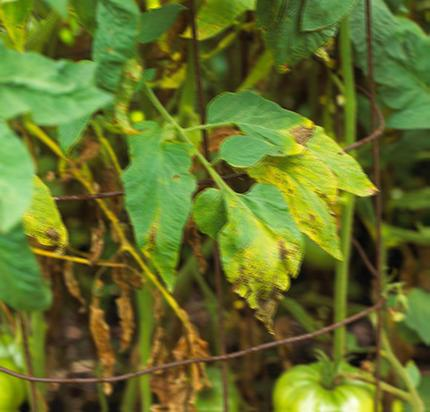Tomato Septoria leaf spot: (219, 190, 308, 333), (247, 142, 344, 269), (271, 114, 385, 212)
